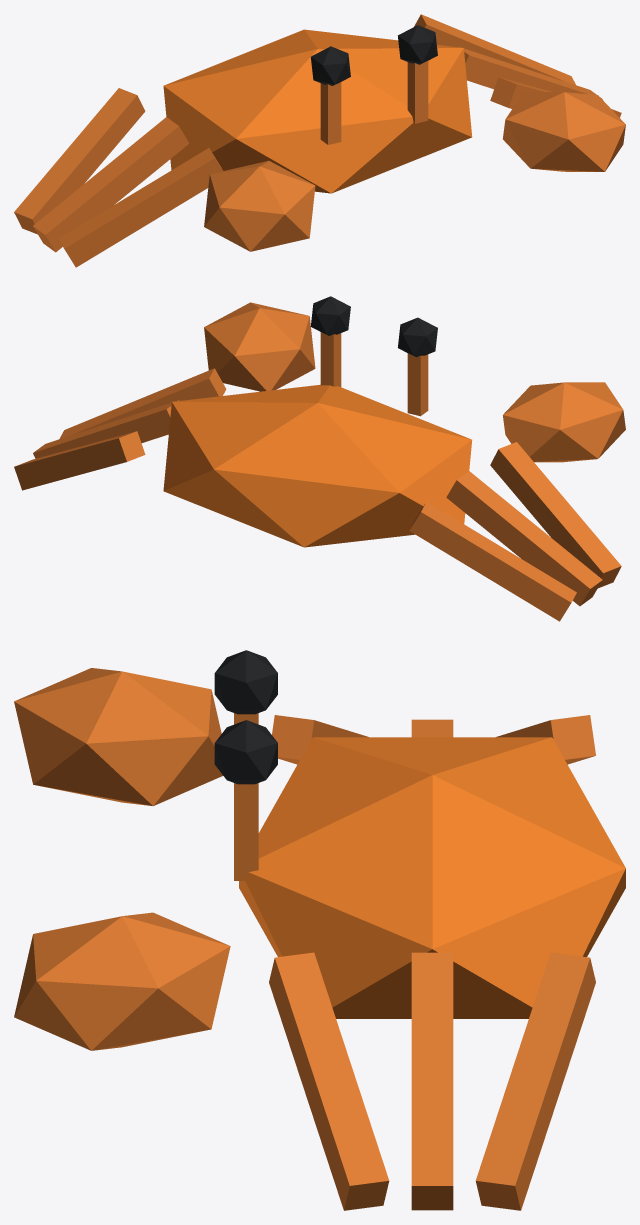
Rendered from Crab.glb.
3 renders of one model, top to bottom at view 1: azimuth 30°, elevation 25°; view 2: azimuth 150°, elevation 25°; view 3: azimuth 270°, elevation 25°, orthographic. The views are drawn at different scales.
Visible parts, largest first — view 1: Crab; view 2: Crab; view 3: Crab.
Part boxes in pixels (x1,y1,x2,y2): Crab: (14,14,625,267); Crab: (14,296,625,621); Crab: (14,650,625,1210).
Bounding box in the file's own units: 0.5125 × 0.1653 × 0.296.
Materials: 1 (1 with a texture image).
